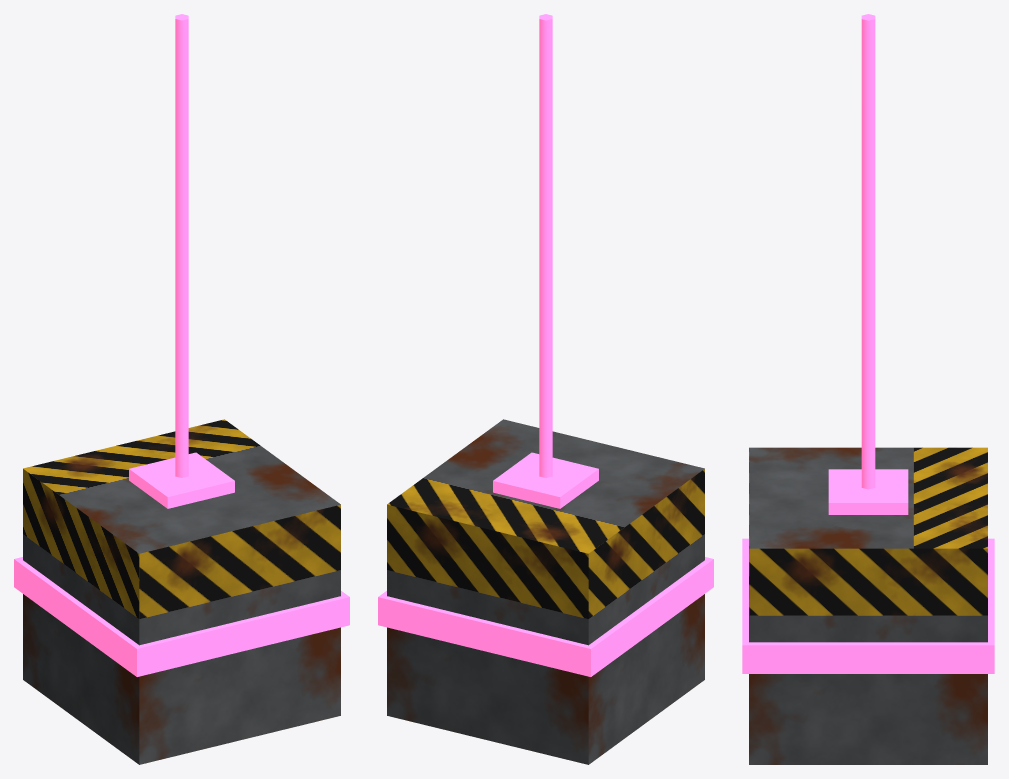
File: loot_weapon.glb
3 views of the same model, side by side, from view 1: azimuth 30°, elevation 25°; view 2: azimuth 150°, elevation 25°; view 3: azimuth 270°, elevation 25° (orthographic). The views are drawn at different scales.
Visible parts, largest first — view 1: Loot; view 2: Loot; view 3: Loot.
Part boxes in pixels (x1,y1,x2,y2): Loot: (14, 14, 349, 764); Loot: (378, 14, 713, 764); Loot: (742, 14, 994, 764).
Size of the model in its own units: 0.95 by 2.9 by 0.95.
Materials: 2 (1 with a texture image).
